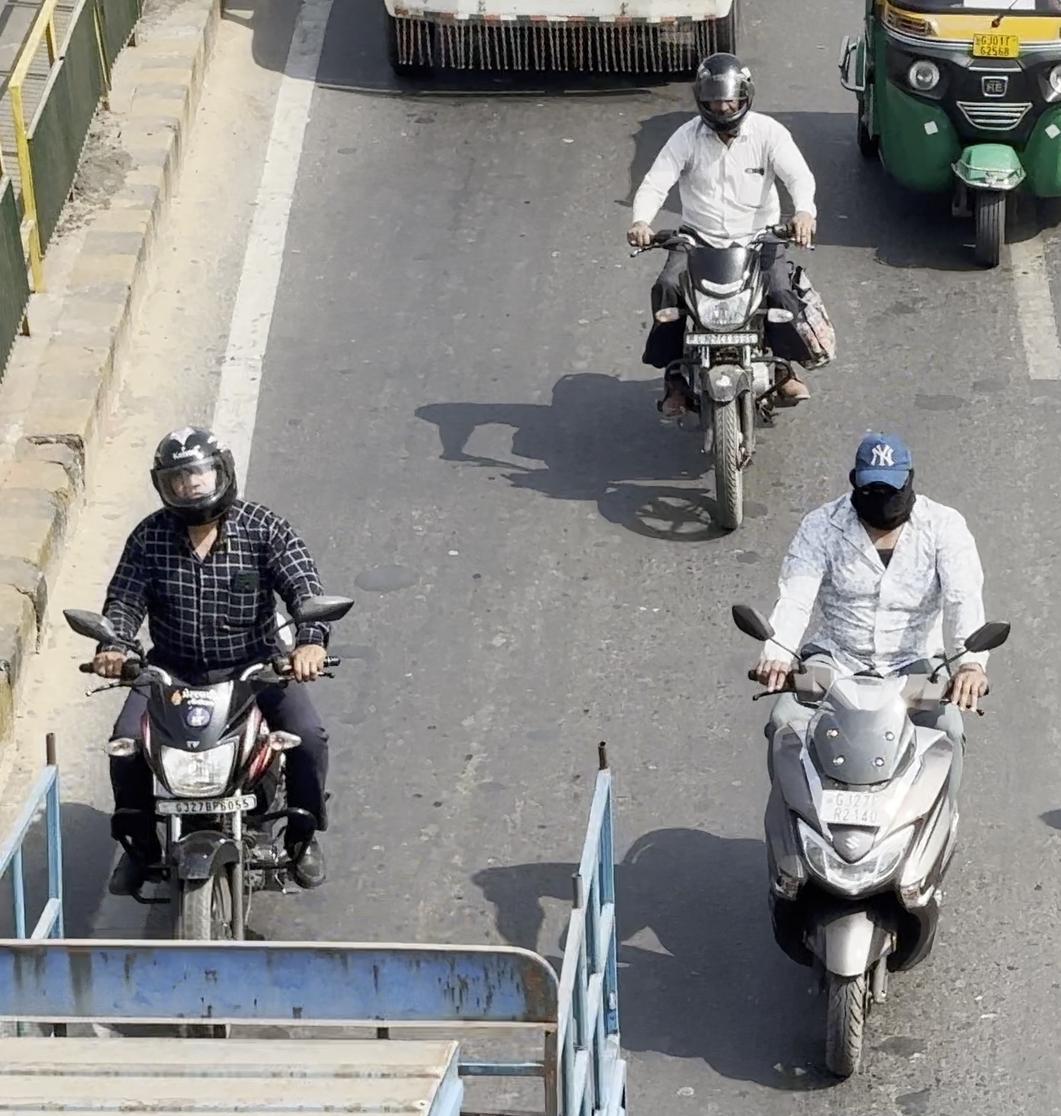BikeWithRider: (720, 430, 1021, 1093), (54, 422, 361, 971), (615, 40, 848, 548)
Helmet: (135, 418, 251, 529), (677, 42, 767, 138)
NoHelmet: (838, 430, 923, 531)
